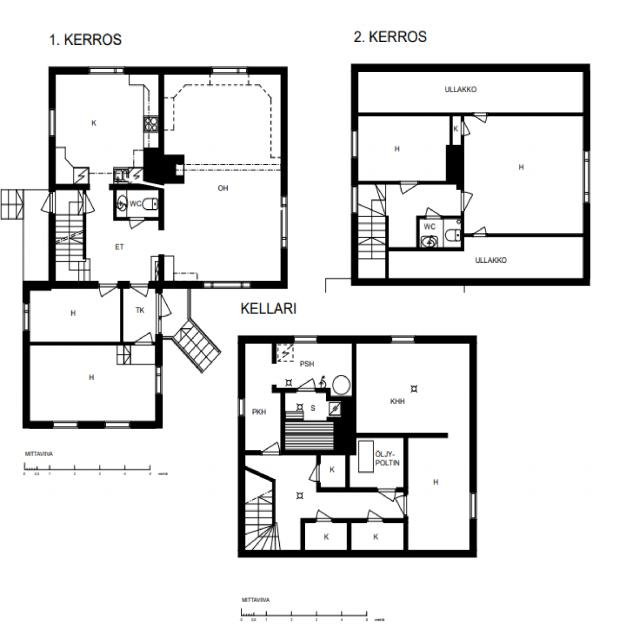door: (156, 294, 184, 317), (29, 192, 56, 214), (99, 281, 118, 310), (130, 281, 149, 310), (83, 192, 105, 214), (262, 431, 280, 456), (378, 488, 396, 512), (298, 369, 316, 393), (461, 192, 482, 212), (388, 496, 408, 516), (401, 182, 419, 204), (301, 464, 321, 482), (316, 502, 332, 524), (425, 198, 442, 218), (368, 502, 383, 524), (137, 325, 152, 346), (130, 217, 145, 237), (474, 112, 488, 132), (473, 219, 488, 237), (462, 121, 478, 136)
